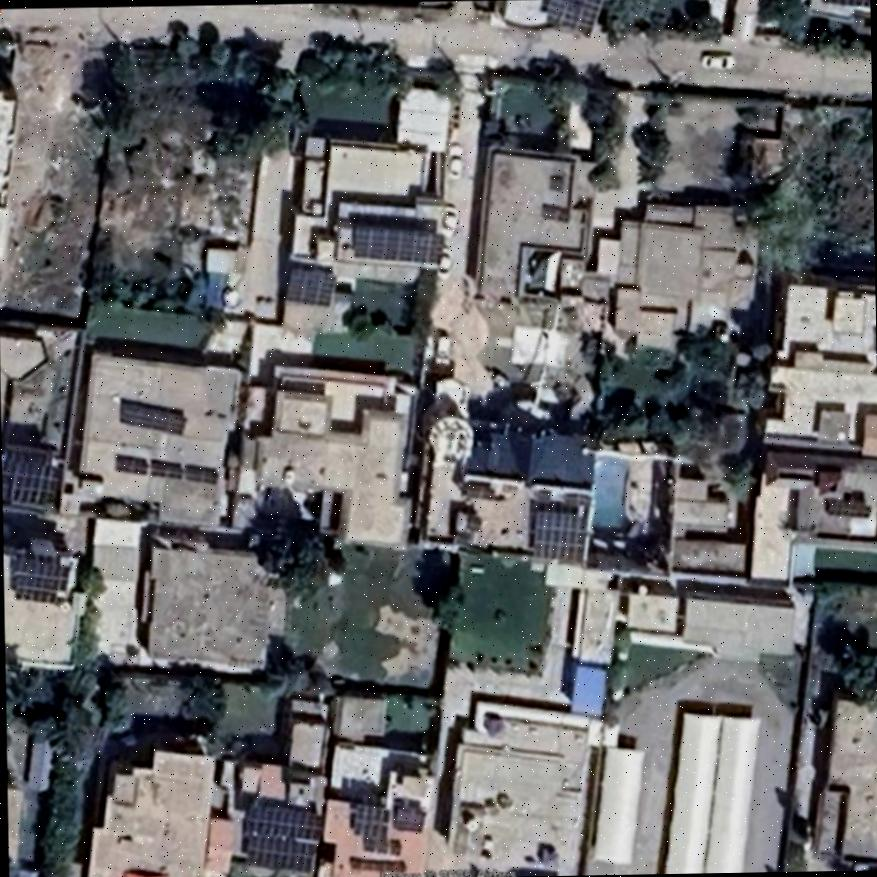Solarpanel: (242, 804, 324, 872), (353, 222, 441, 261), (1, 446, 52, 501), (14, 556, 71, 601), (533, 510, 584, 559), (544, 0, 602, 35), (285, 266, 332, 307), (120, 401, 185, 430), (354, 804, 387, 834), (183, 464, 215, 485), (150, 459, 183, 479), (116, 455, 144, 474), (823, 0, 868, 5)
